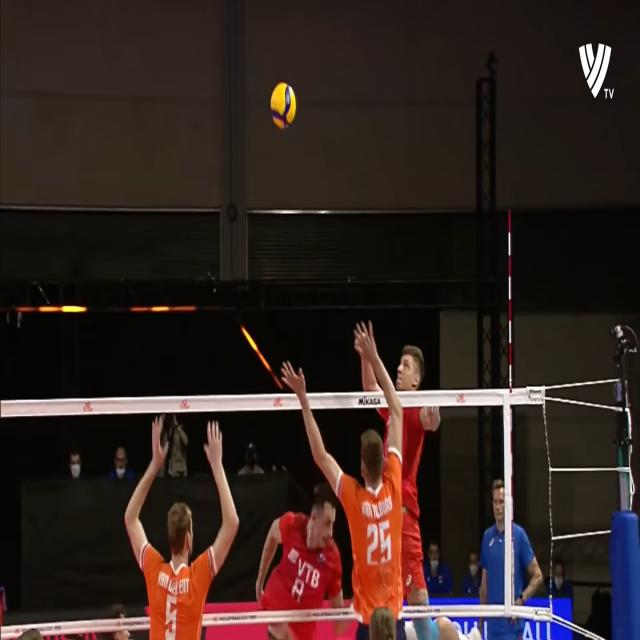player: (364, 323, 444, 640), (123, 419, 231, 640), (312, 406, 403, 640), (255, 483, 347, 640)
